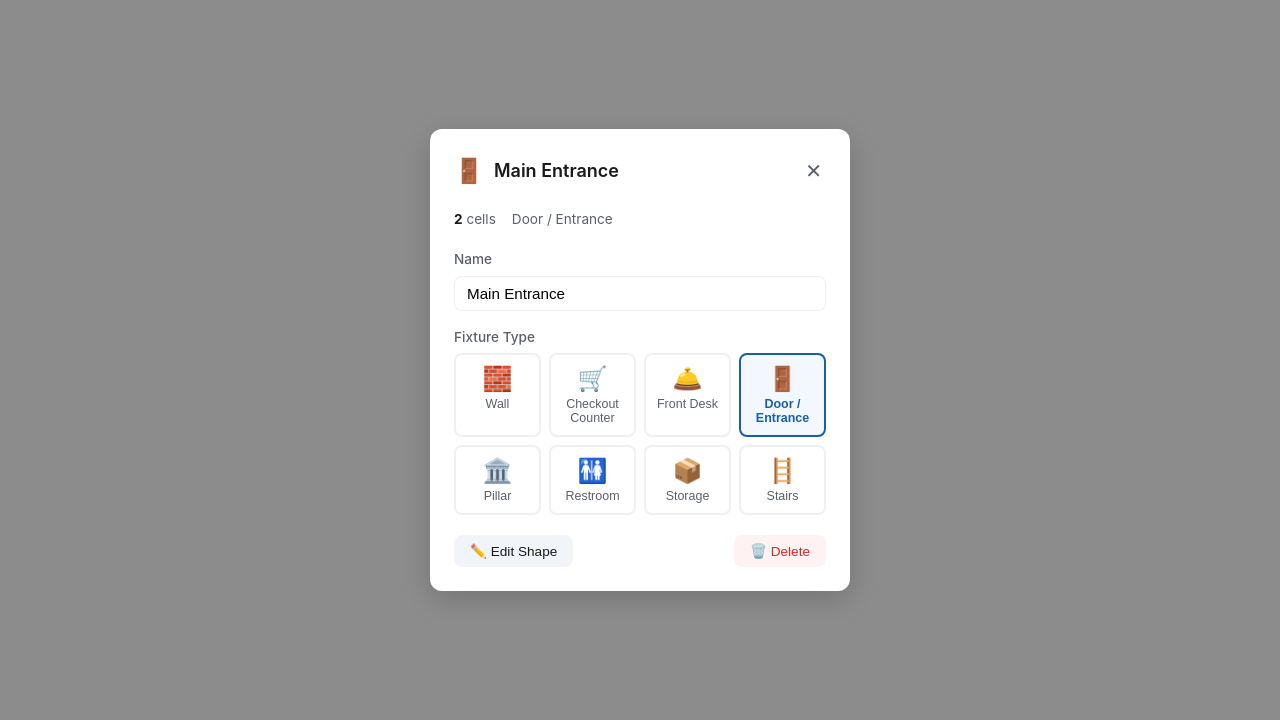
FixtureDetailModal › cancels delete confirmation
What coordinates should you click on to do the following:
click the button "🗑️ Delete"
I would click on:
 (780, 551)
Its box is [734, 535, 826, 567].
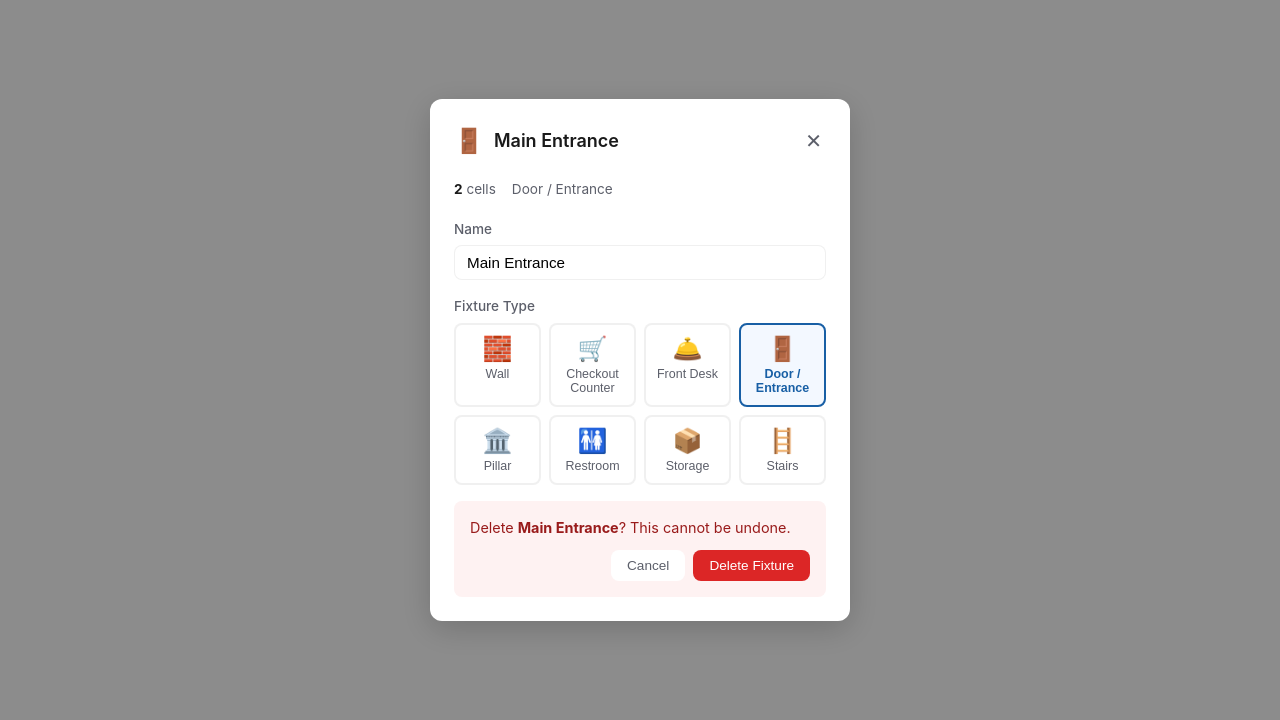
Check: the button "Delete Fixture" is shown, box [693, 550, 810, 581]
What coordinates should you click on to do the following:
click the button "Cancel"
I would click on:
 (648, 566)
Its box is [611, 550, 685, 581].
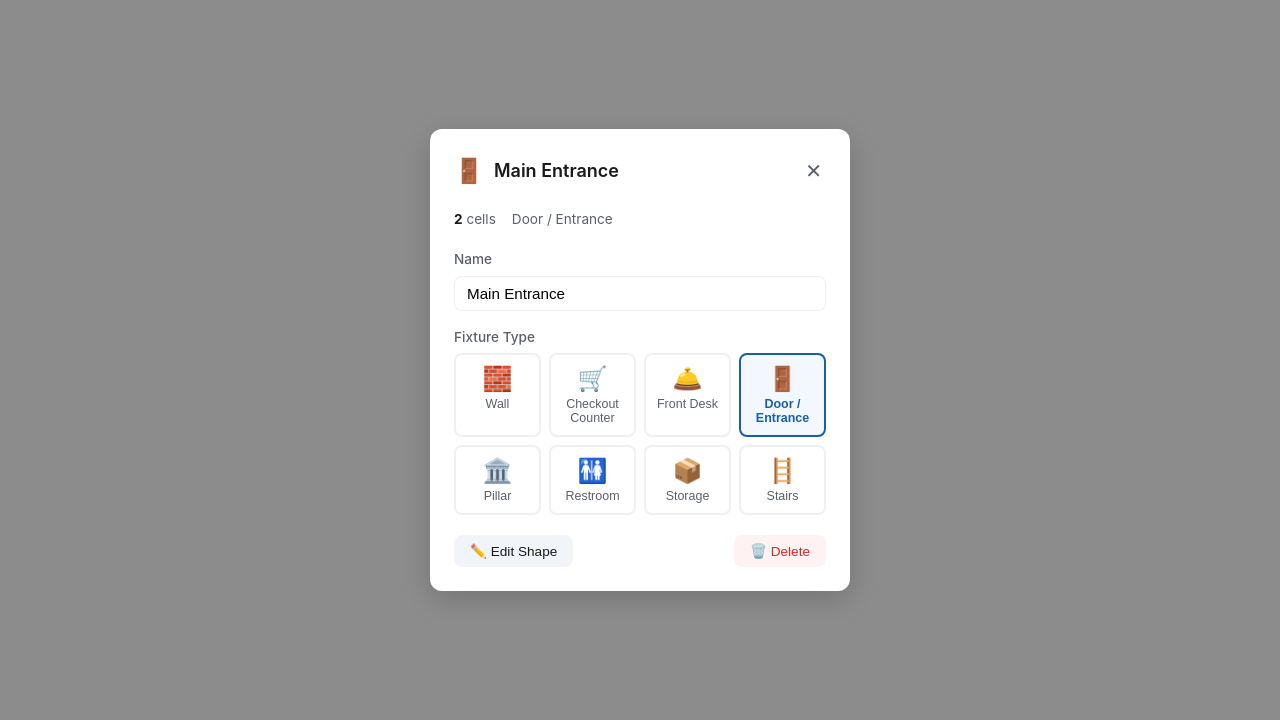
Check: the button "Delete Fixture" is gone
